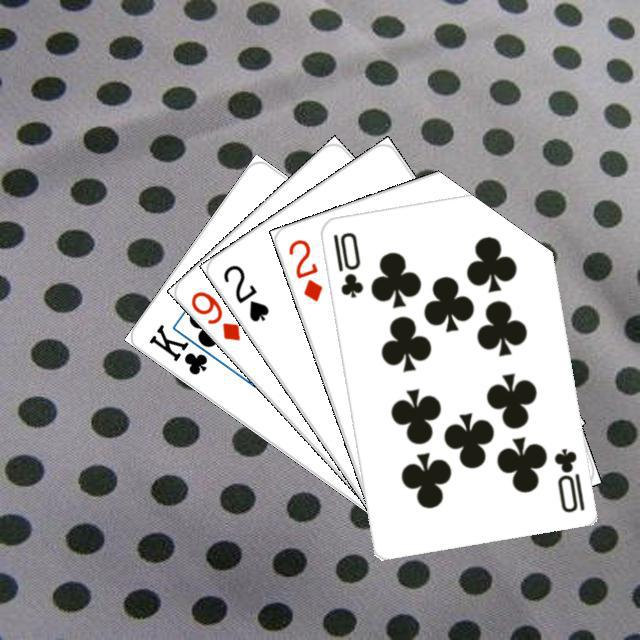10c: (549, 443, 587, 515), (328, 227, 365, 299)
2d: (283, 234, 325, 304)
2s: (218, 259, 271, 324)
9d: (186, 285, 243, 343)
Kc: (143, 319, 223, 377)
